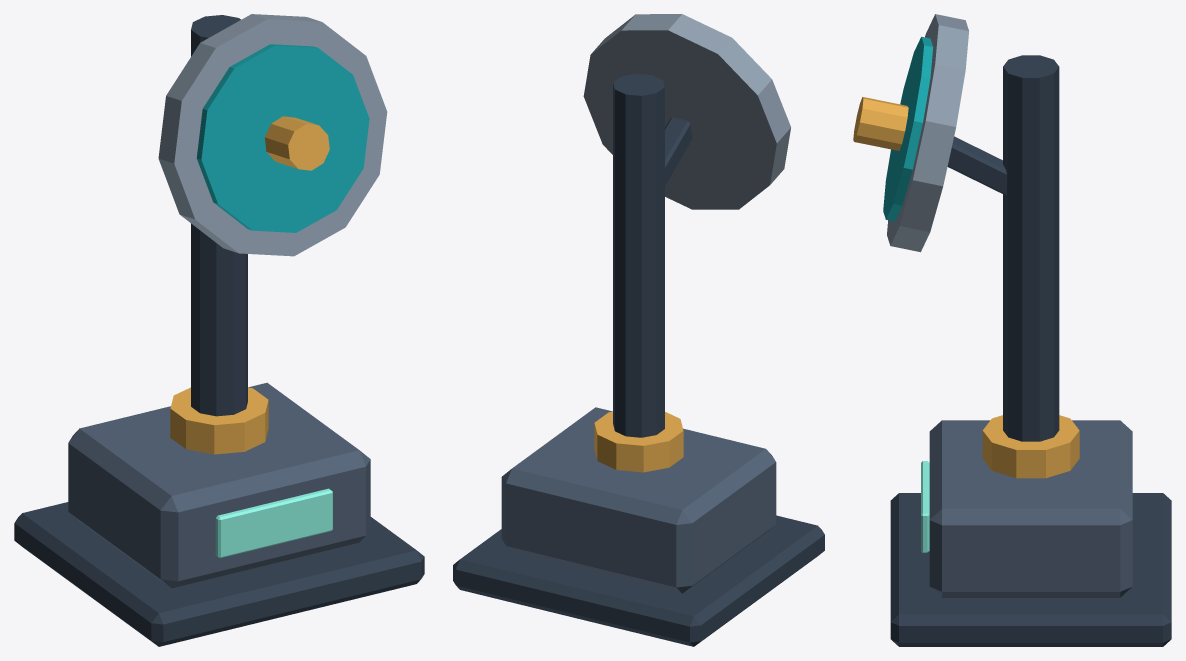
Rendered from 04_Signal_Beacon.glb.
3 views of the same model, side by side, from view 1: azimuth 30°, elevation 25°; view 2: azimuth 150°, elevation 25°; view 3: azimuth 270°, elevation 25° (orthographic). The views are drawn at different scales.
Visible parts, largest first — view 1: 04_Signal_Beacon__Body; view 2: 04_Signal_Beacon__Body; view 3: 04_Signal_Beacon__Body.
Part boxes in pixels (x1,y1,x2,y2): 04_Signal_Beacon__Body: (14, 14, 424, 646); 04_Signal_Beacon__Body: (453, 14, 824, 646); 04_Signal_Beacon__Body: (853, 14, 1171, 646).
Bounding box in the file's own units: 1.95 × 3.96 × 2.04.
Materials: 1 (1 with a texture image).
